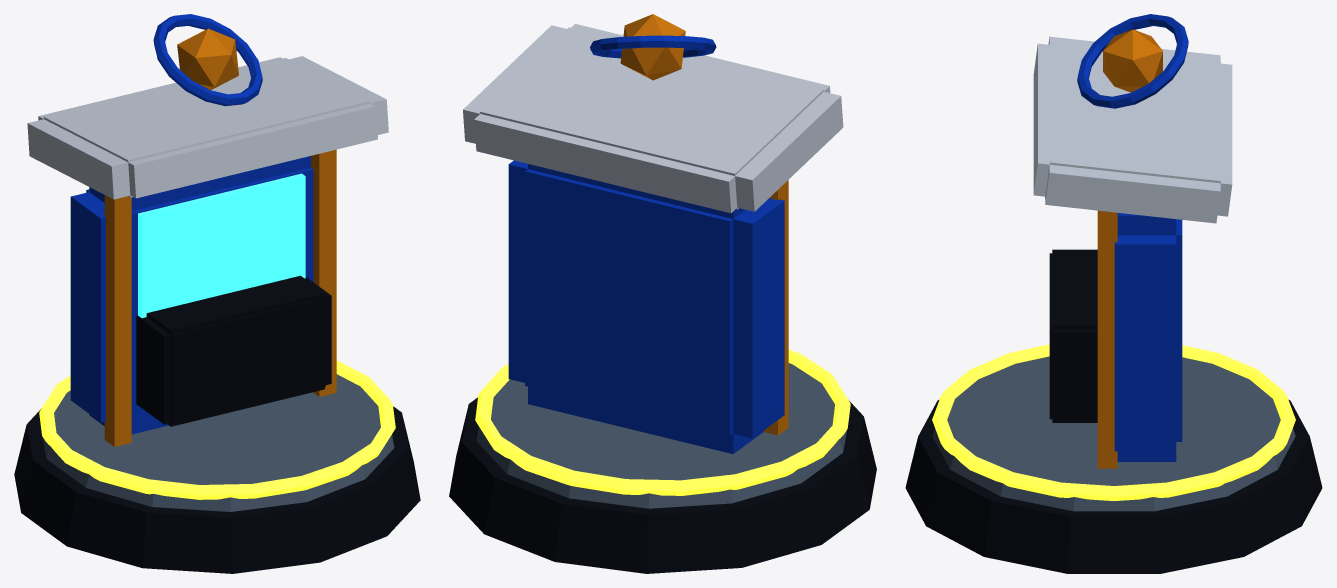
Rendered from earth_discovery_kiosk.glb.
The picture shows the model from 3 angles, left to right: view 1: azimuth 30°, elevation 25°; view 2: azimuth 150°, elevation 25°; view 3: azimuth 270°, elevation 25°; orthographic projection. The views are drawn at different scales.
Visible parts, largest first — view 1: DiscoveryKioskBody, DiscoveryKioskGlow, SpinRadar; view 2: DiscoveryKioskBody, DiscoveryKioskGlow, SpinRadar; view 3: DiscoveryKioskBody, DiscoveryKioskGlow, SpinRadar.
Part boxes in pixels (x1,y1,x2,y2): DiscoveryKioskBody: [14, 56, 420, 573]; DiscoveryKioskGlow: [39, 173, 395, 499]; SpinRadar: [153, 14, 262, 106]; DiscoveryKioskBody: [449, 24, 876, 573]; DiscoveryKioskGlow: [475, 350, 850, 495]; SpinRadar: [590, 14, 716, 80]; DiscoveryKioskBody: [905, 36, 1322, 573]; DiscoveryKioskGlow: [932, 344, 1295, 500]; SpinRadar: [1077, 14, 1188, 108].
Bounding box in the file's own units: 3.22 × 4 × 3.3.
